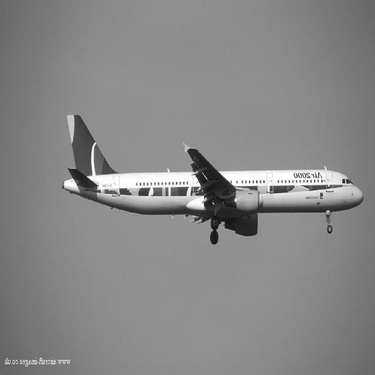airplane: (49, 104, 372, 251)
